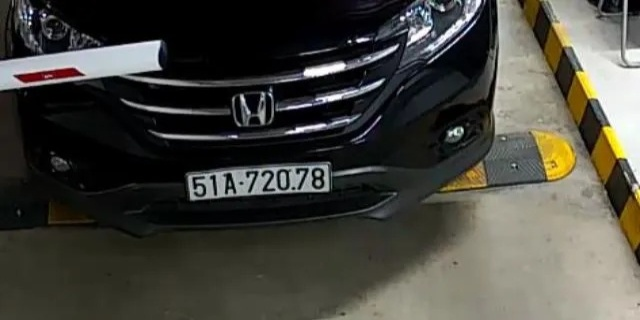bien_so: (188, 169, 329, 194)
